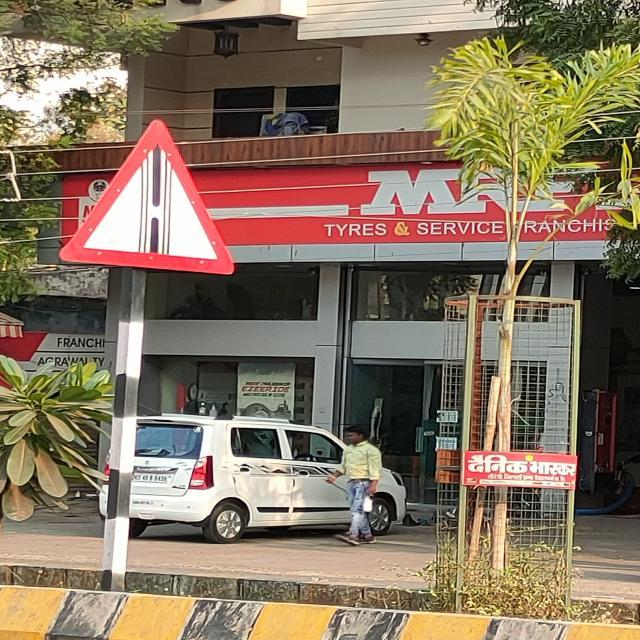gap in median: (51, 118, 251, 282)
